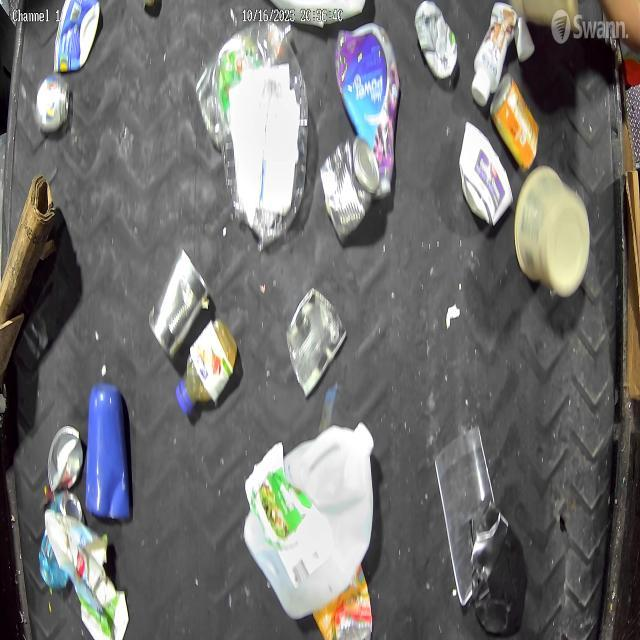can: (282, 280, 349, 404), (318, 130, 380, 242), (146, 245, 207, 356), (490, 76, 540, 178)
milk_jug: (242, 411, 376, 621)
